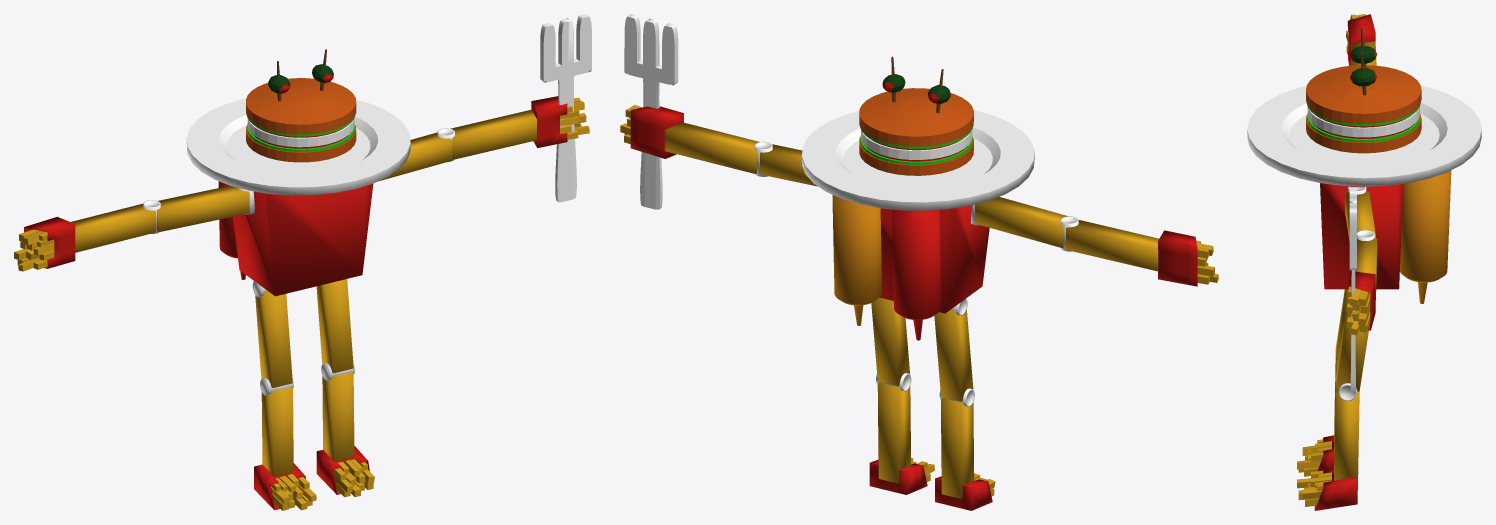
Rendered from monster.obj.
The picture shows the model from 3 angles, left to right: view 1: azimuth 30°, elevation 25°; view 2: azimuth 150°, elevation 25°; view 3: azimuth 270°, elevation 25°; orthographic projection. The views are drawn at different scales.
Parts seen in each view (by area): view 1: Cube; view 2: Cube; view 3: Cube.
Boxes of the visible parts, x1,y1,x2,y2 form: Cube: (14,14,591,510); Cube: (620,14,1218,510); Cube: (1247,14,1481,510).
Bounding box in the file's own units: 10.82 × 7.72 × 3.68.
